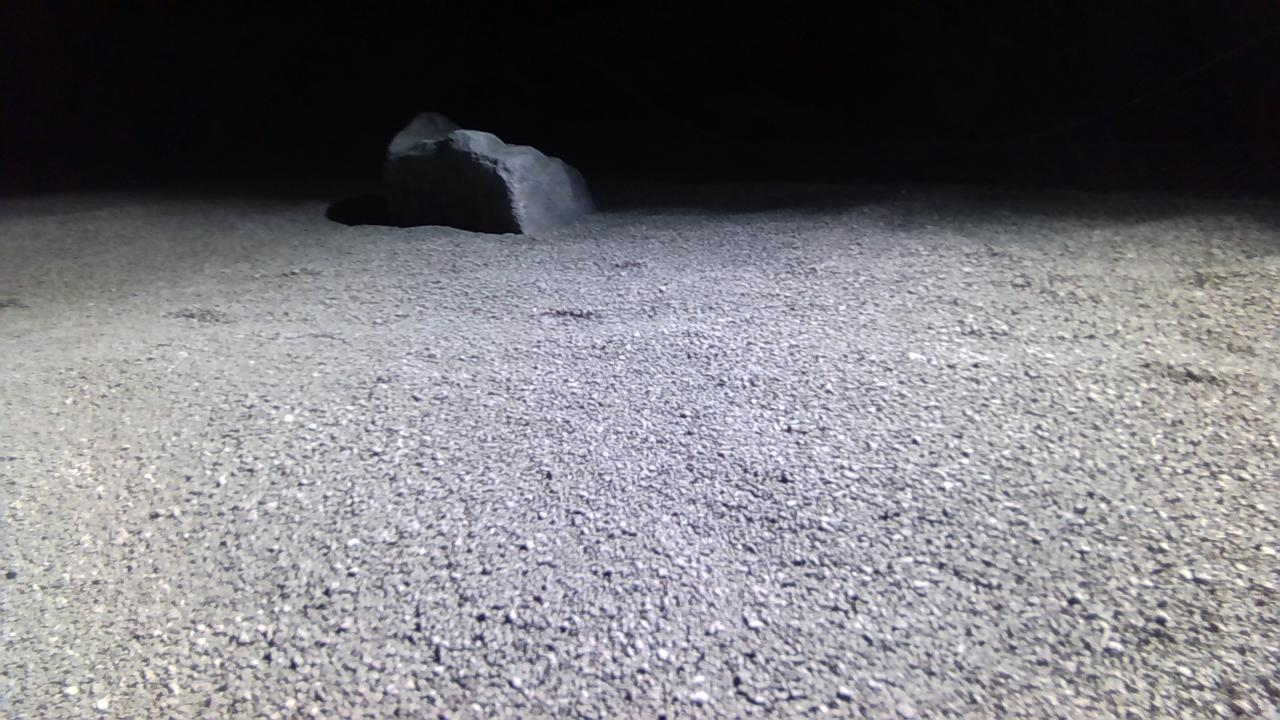rock: (384, 111, 595, 234)
